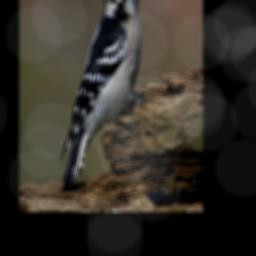Woodpecker: (60, 0, 156, 195)
